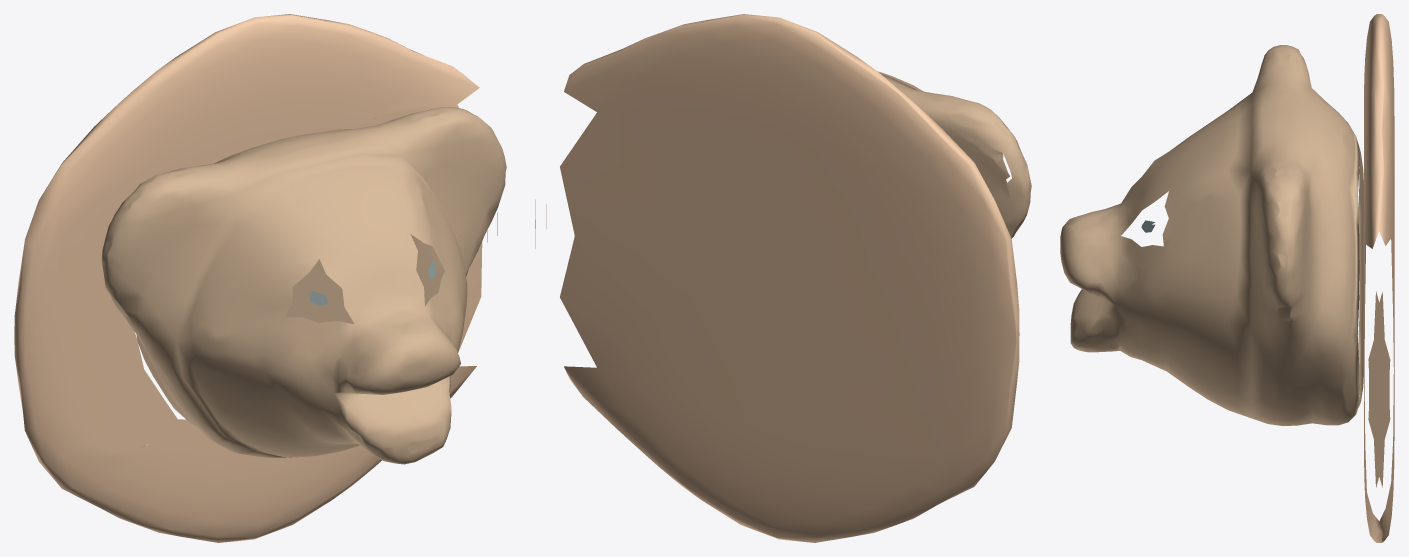
The picture shows the model from 3 angles, left to right: view 1: azimuth 30°, elevation 25°; view 2: azimuth 150°, elevation 25°; view 3: azimuth 270°, elevation 25°; orthographic projection. The views are drawn at different scales.
Bounding box in the file's own units: 0.866 × 0.9062 × 0.55.
